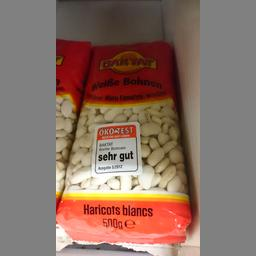beans: (58, 36, 192, 246)
